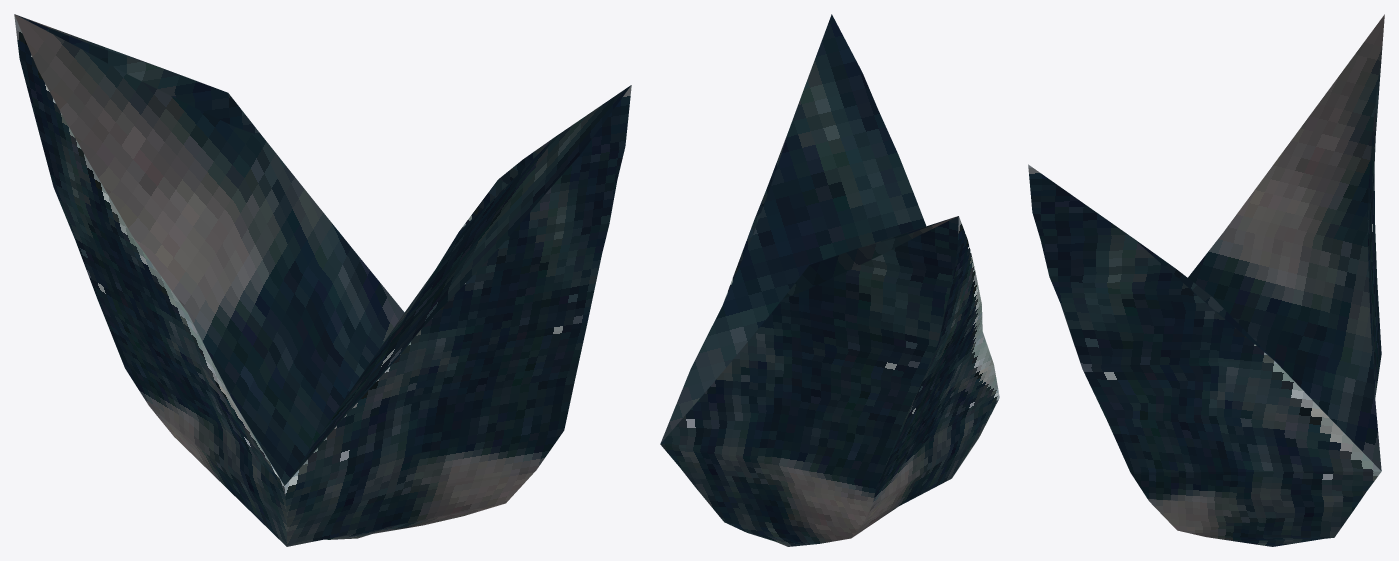
3 views of the same model, side by side, from view 1: azimuth 30°, elevation 25°; view 2: azimuth 150°, elevation 25°; view 3: azimuth 270°, elevation 25° (orthographic). The views are drawn at different scales.
Parts seen in each view (by area): view 1: SPLICE_3; view 2: SPLICE_3; view 3: SPLICE_3.
Part boxes in pixels (<box>): SPLICE_3: <box>14,14,631,546</box>; SPLICE_3: <box>660,14,999,546</box>; SPLICE_3: <box>1028,14,1384,546</box>.
Size of the model in its own units: 0.6791 by 0.8944 by 0.6818.
1 material, 1 textured.
